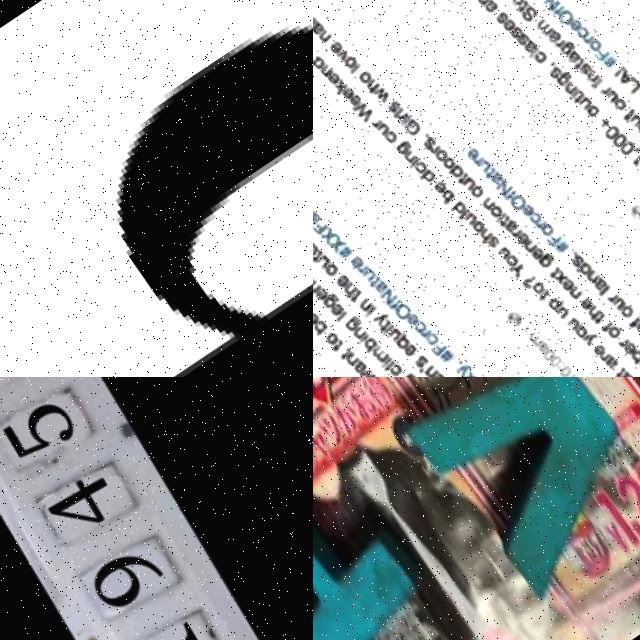0: (606, 132, 626, 151), (598, 124, 618, 143), (612, 140, 633, 158), (533, 348, 553, 366), (539, 354, 558, 371), (549, 364, 566, 377)
1: (106, 610, 223, 640), (626, 154, 640, 169), (559, 373, 574, 377)
4: (22, 458, 136, 558)
5: (0, 384, 92, 482)
9: (66, 531, 179, 631)
B: (118, 30, 313, 377)
P: (313, 434, 426, 640)
V: (402, 377, 640, 597)
